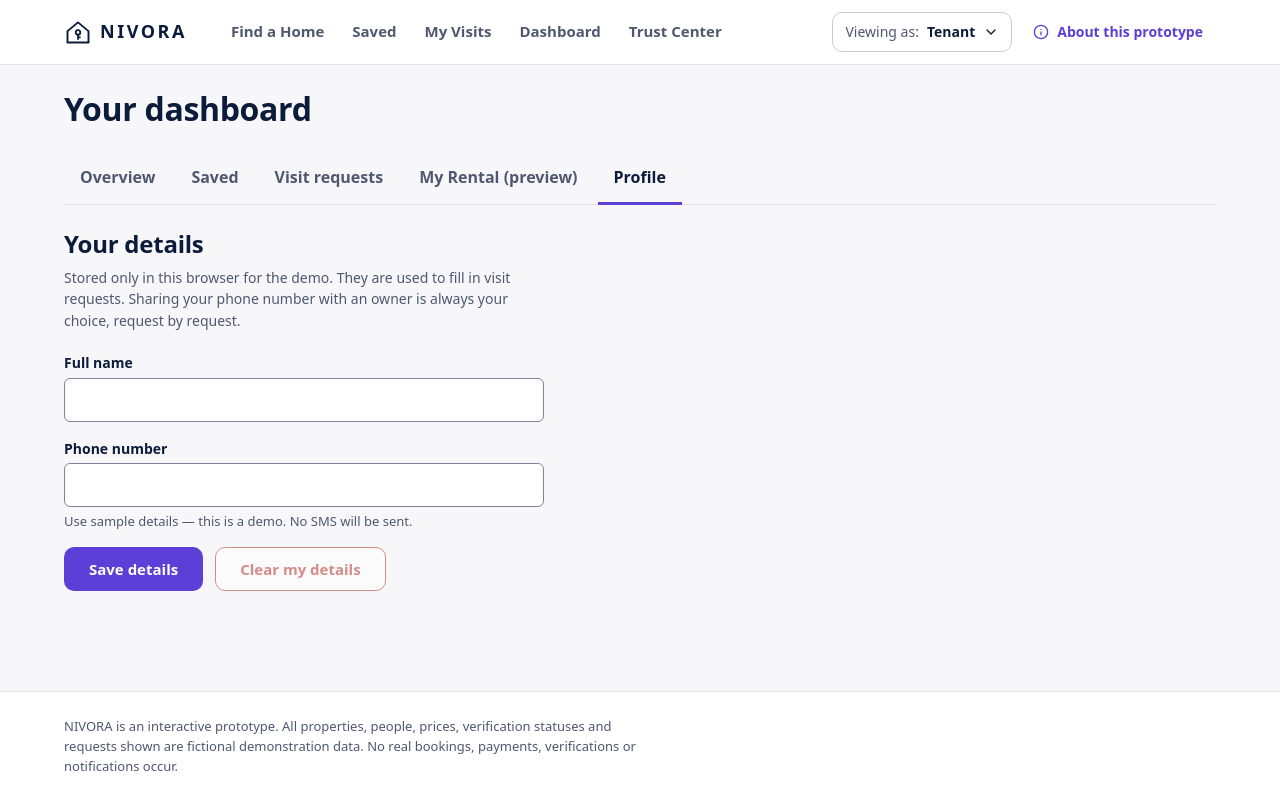
Test case: Shells and role switcher › shows Viewing as: Tenant and switches to Owner and back, keeping each role's last route
Expected: the text "Viewing as:" is shown, [845,21,919,43]
Expected: the heading "Your details" is shown, [64,227,204,260]
Click the button "Viewing as: Tenant": (922, 32) [832,12,1012,52]
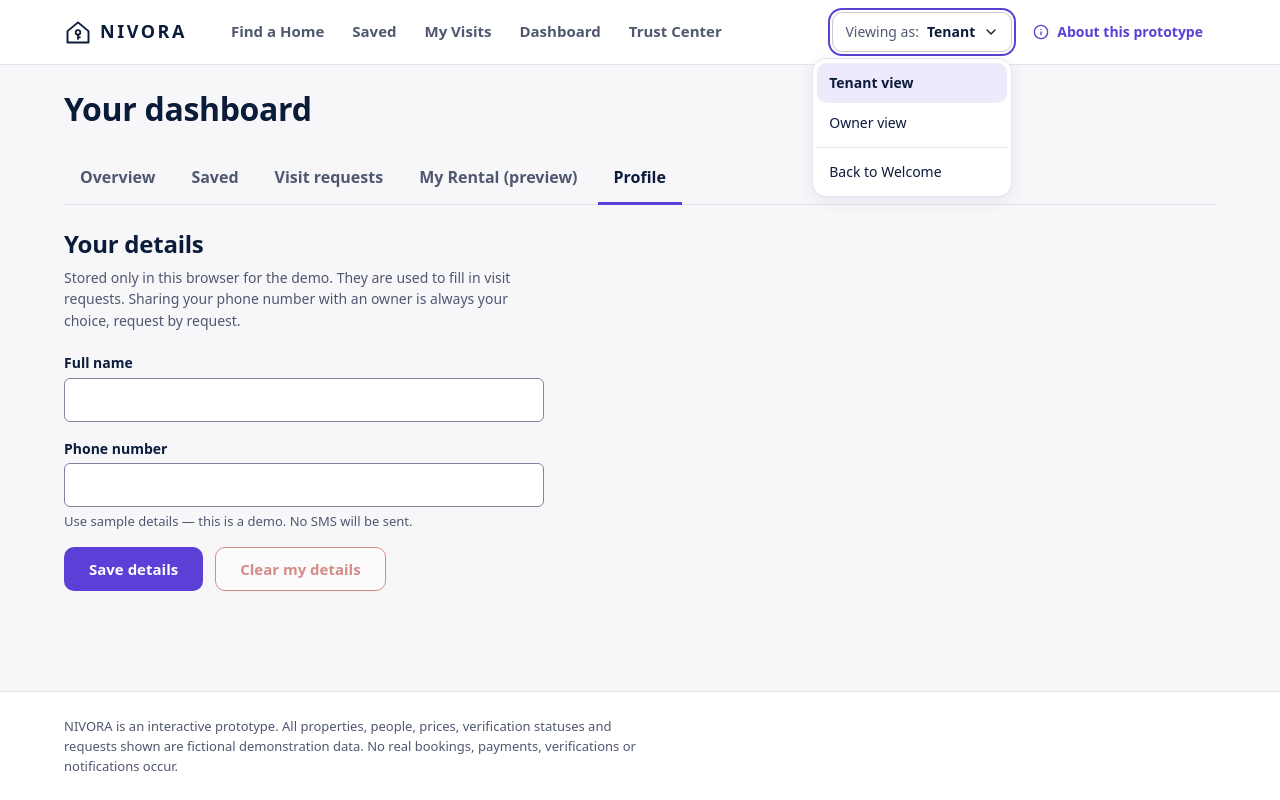
Click the button "Owner view": (912, 123) [817,103,1007,143]
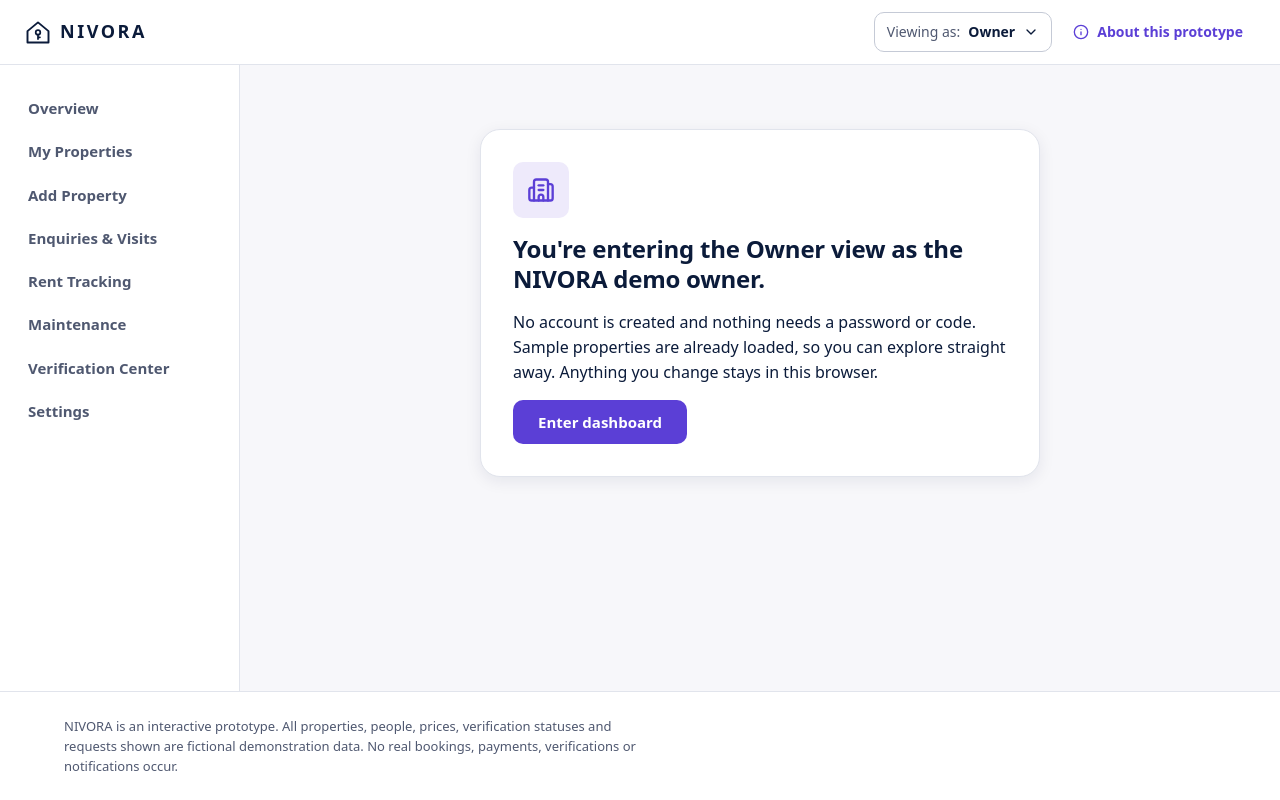
Now the heading "You're entering the Owner view as the NIVORA demo owner." is shown, box [513,234,1007,294]
Click the button "Viewing as: Owner": (963, 32) [874,12,1052,52]
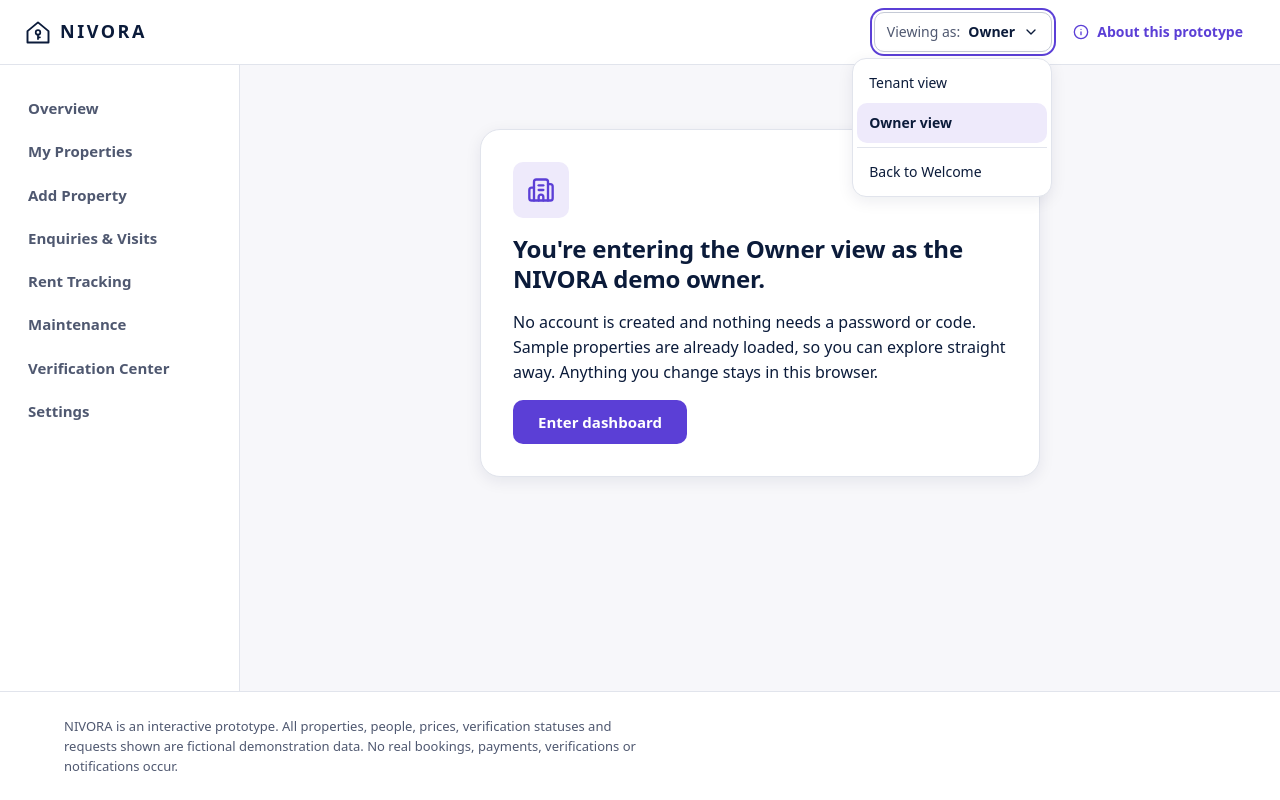
Click the button "Tenant view": (952, 83) [857,63,1047,103]
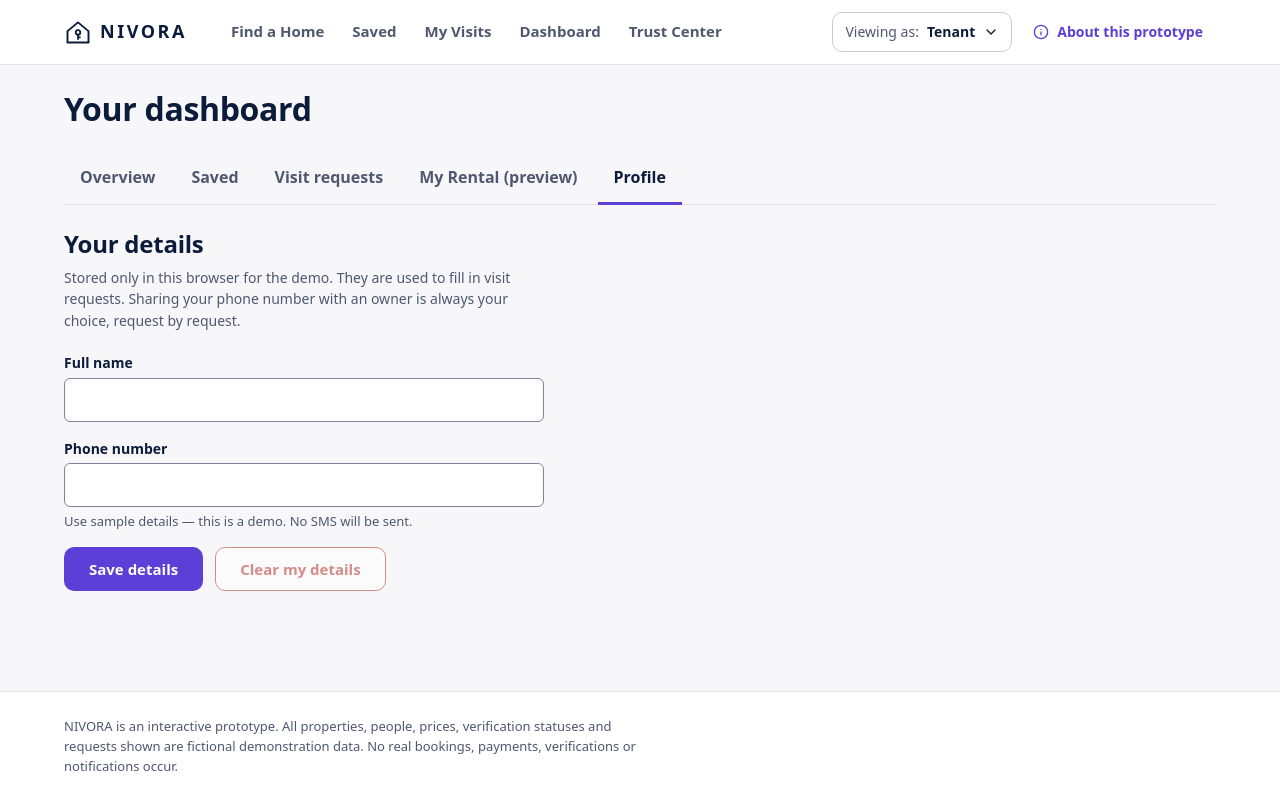
Now the heading "Your details" is shown, box [64,227,204,260]
